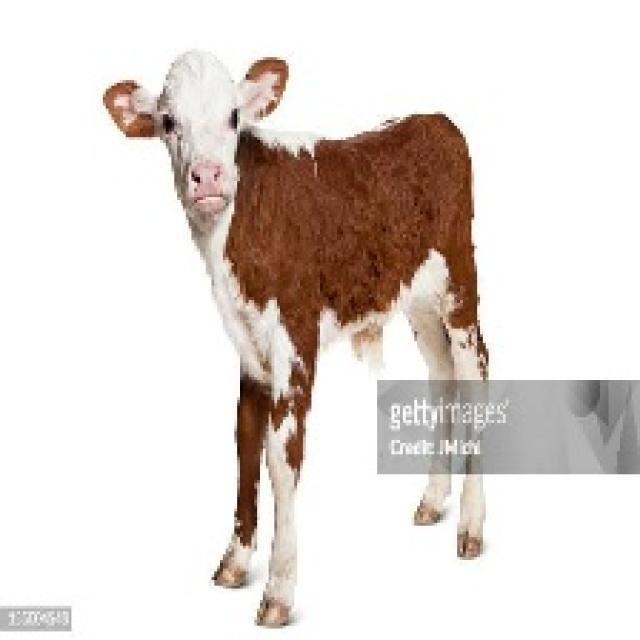bear: (88, 26, 600, 603)
